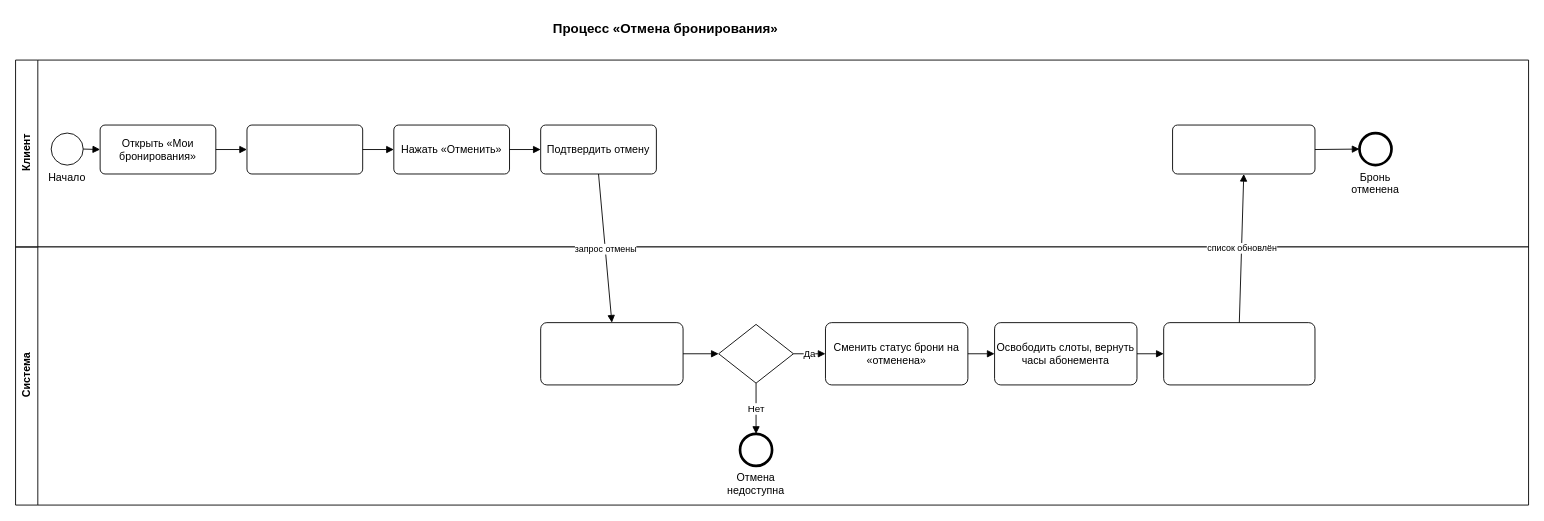
The diagram is 1544 pixels wide and 521 high, and some of its shapes have lost their labels. Each missing label, with the box of its shape:
Выбрать активную бронь: (246, 124, 363, 174)
Обновить карту мест и список бронирований: (1163, 322, 1315, 385)
Отмена возможна?: (718, 324, 793, 383)
Проверить статус брони и её принадлежность клиенту: (540, 322, 683, 385)
Просмотр обновлённого списка броней: (1172, 124, 1315, 174)
